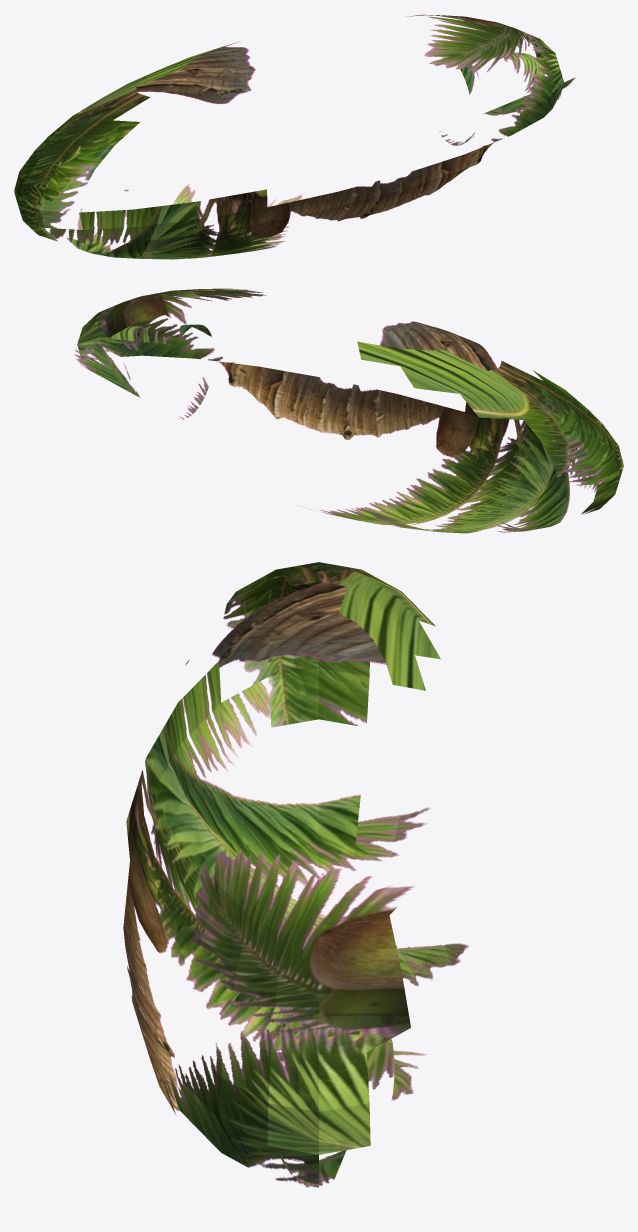
File: palm.glb
The picture shows the model from 3 angles, top to bottom: view 1: azimuth 30°, elevation 25°; view 2: azimuth 150°, elevation 25°; view 3: azimuth 270°, elevation 25°; orthographic projection. The views are drawn at different scales.
Visible parts, largest first — view 1: palm; view 2: palm; view 3: palm.
Boxes of the visible parts, <box> form: palm: <box>14,14,575,259</box>; palm: <box>74,288,623,533</box>; palm: <box>123,562,468,1187</box>.
Size of the model in its own units: 1.55 by 0.4725 by 0.441.
1 material, 1 textured.
